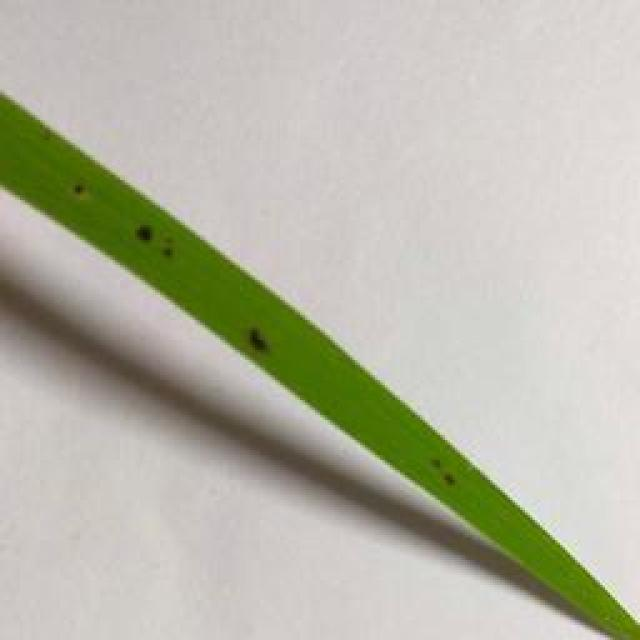Brown_Spot: (240, 312, 274, 360), (422, 454, 461, 492), (129, 216, 161, 248), (64, 179, 91, 201), (40, 122, 62, 146), (161, 239, 186, 260)
